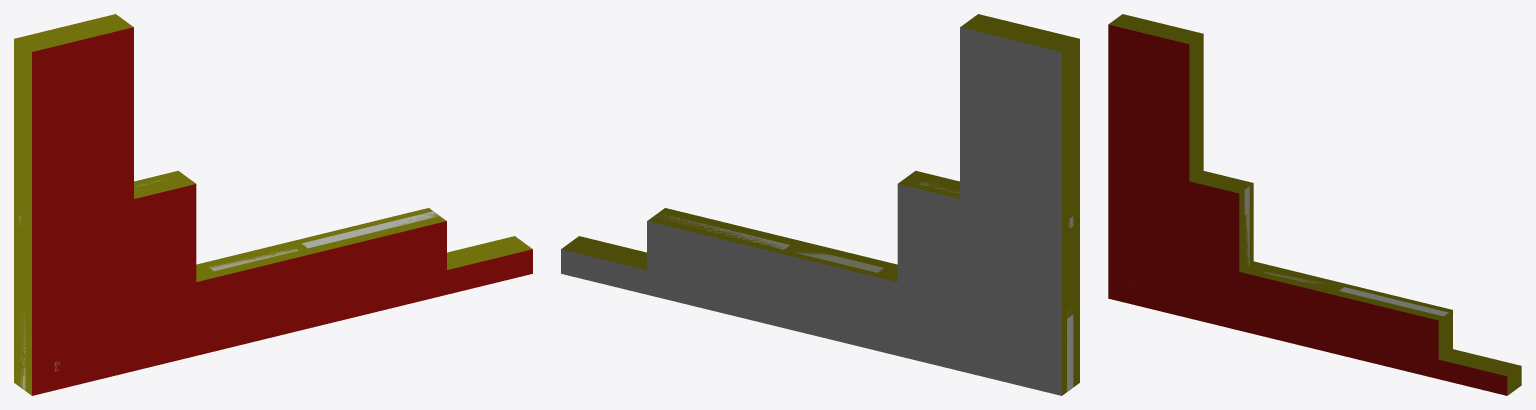
Rendered from idf.obj.
3 renders of one model, left to right at view 1: azimuth 30°, elevation 25°; view 2: azimuth 150°, elevation 25°; view 3: azimuth 330°, elevation 25°, orthographic. The views are drawn at different scales.
Bounding box in the file's own units: 64 × 42 × 4.
